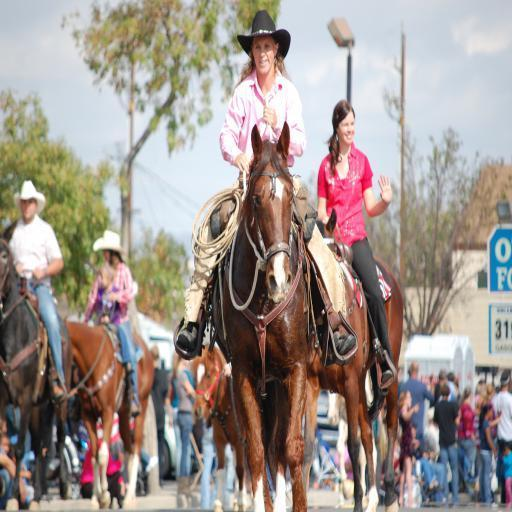horse: (210, 120, 310, 512), (304, 206, 404, 512), (0, 218, 73, 508), (64, 317, 154, 510), (192, 340, 248, 512)
